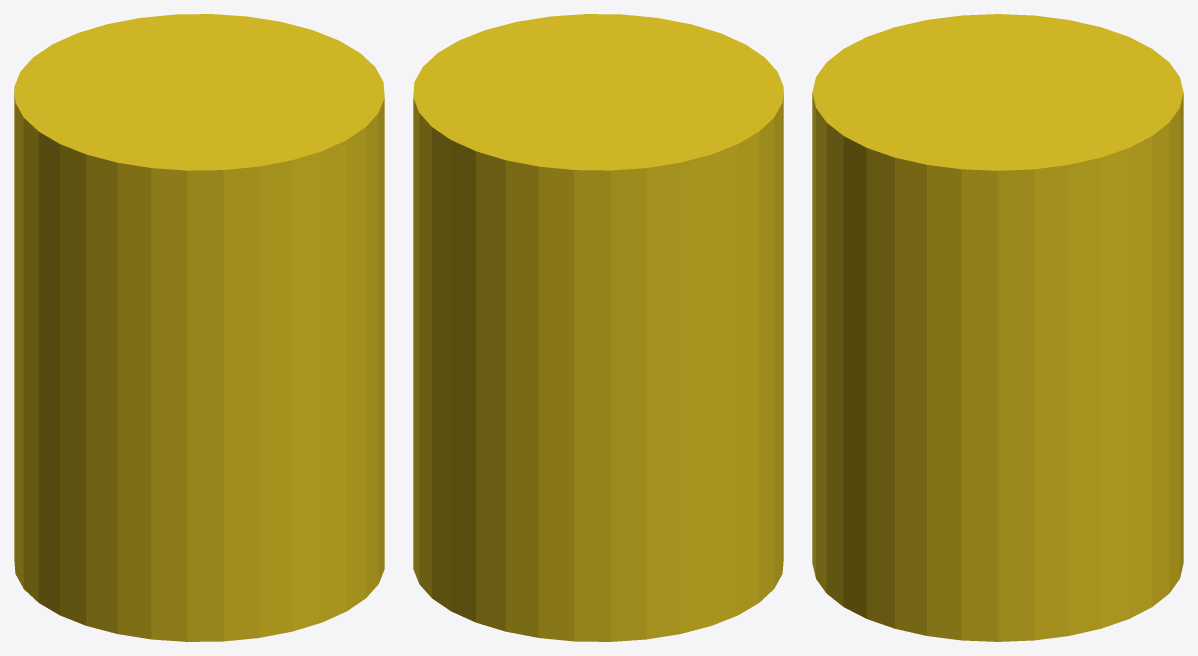
The model's file is ENVIRONMENT_OFFICE_BOTOL4.fbx.
3 views of the same model, side by side, from view 1: azimuth 30°, elevation 25°; view 2: azimuth 150°, elevation 25°; view 3: azimuth 270°, elevation 25° (orthographic).
Visible parts, largest first — view 1: Cylinder.041; view 2: Cylinder.041; view 3: Cylinder.041.
Boxes of the visible parts, box(x1,y1,x2,y2) form: Cylinder.041: box(14, 14, 384, 641); Cylinder.041: box(413, 14, 783, 641); Cylinder.041: box(812, 14, 1183, 641).
Size of the model in its own units: 20.66 by 28.94 by 20.66.
